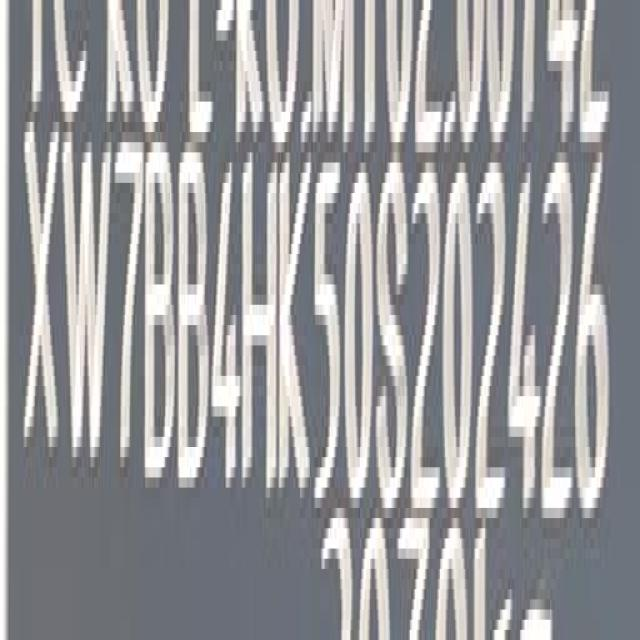0: (444, 163, 474, 513), (346, 165, 374, 508)
2: (544, 155, 575, 524), (475, 161, 505, 522), (413, 158, 441, 517)
4: (510, 156, 541, 524), (211, 166, 243, 499)
5: (313, 161, 342, 508)
6: (579, 136, 614, 519)
7: (111, 139, 147, 483)
B: (144, 149, 178, 488), (180, 150, 210, 496)
H: (245, 158, 278, 501)
K: (281, 154, 313, 504)
S: (376, 162, 408, 512)
W: (62, 123, 109, 475)
X: (20, 126, 61, 468)
